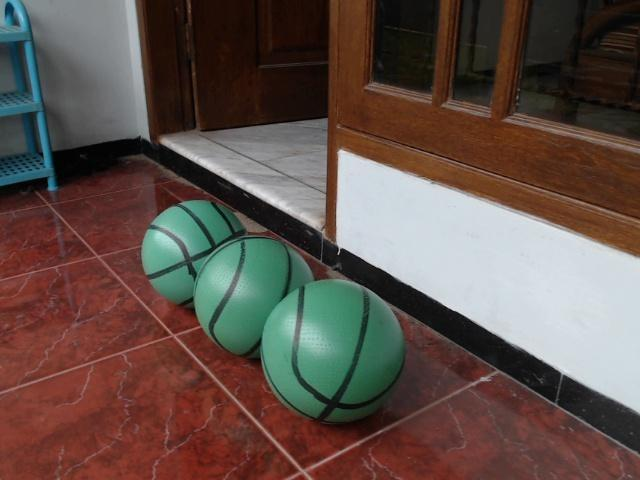Sports-Ball: (262, 280, 403, 416), (191, 232, 326, 369), (134, 189, 264, 313)
